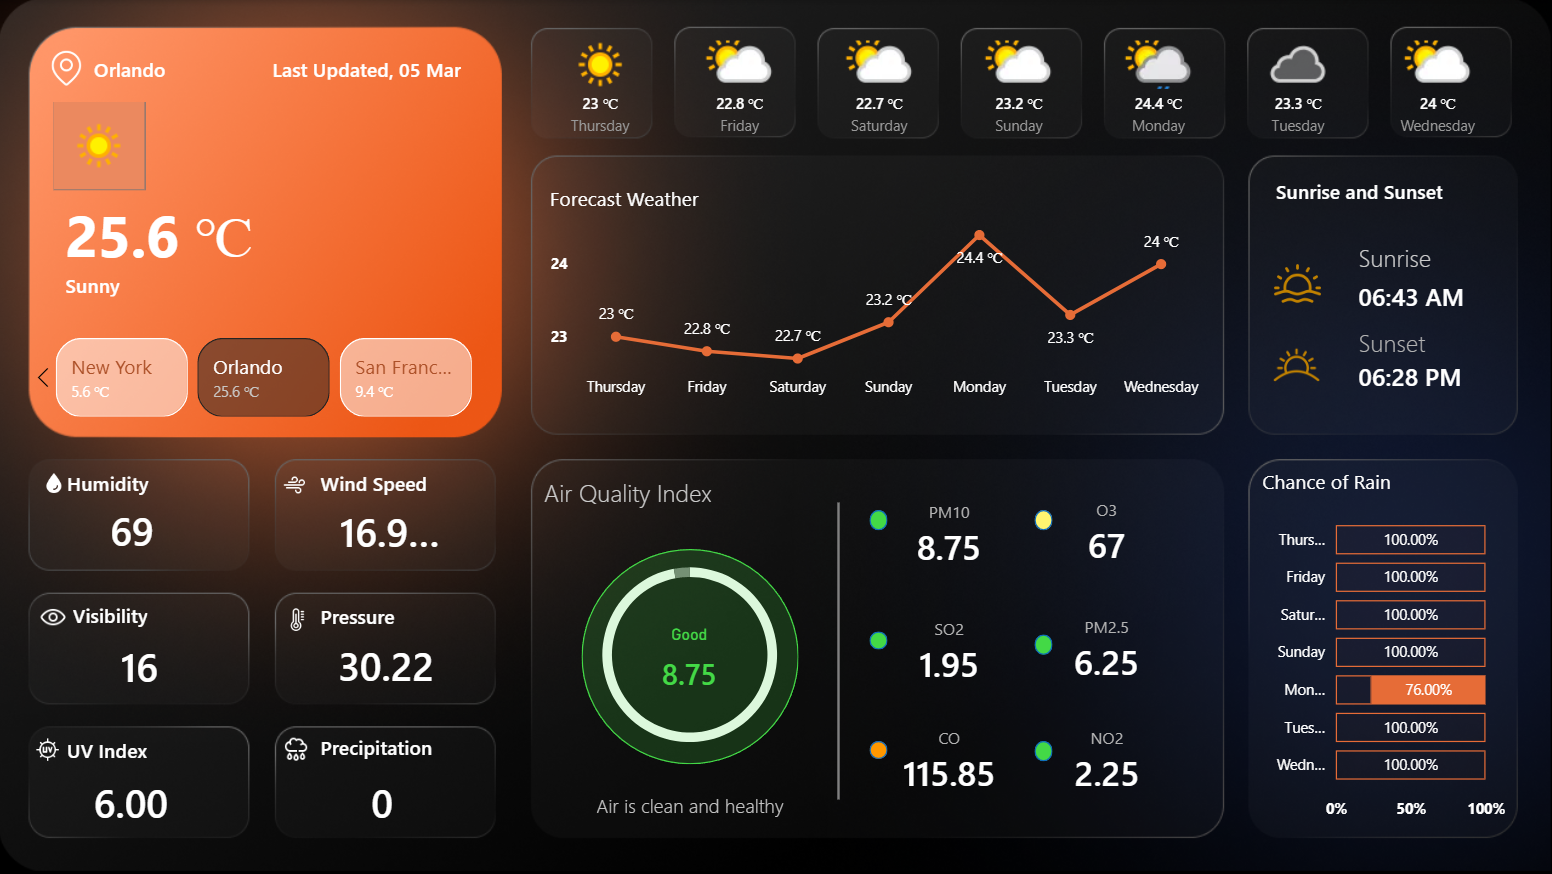

What the dashboard file says about the page in this screenshot:
{"tool":"powerbi","page":{"name":"Page 1","canvas":[1280,720],"ordinal":0},"visuals":[{"type":"donutChart","fields":{"Y":["_Measures.Left_value_PM10","Sum(Current.current.air_quality.pm10)"]},"box":[474.1,436.4,190,205.7],"z":0},{"type":"shape","box":[480.4,452.1,179,177.4],"z":1000},{"type":"advancedSlicerVisual","fields":{"Values":["Locations.location.name"]},"box":[22.7,272.6,393.7,75.7],"z":2000},{"type":"shape","box":[55.8,160.9,173.7,62.1],"z":3000},{"type":"shape","box":[55.8,223.1,210.3,20.7],"z":4000},{"type":"shape","box":[78.6,45.7,117.1,20],"z":5000},{"type":"image","box":[41.5,27.1,28.7,57.4],"z":6000},{"type":"shape","box":[225.7,45.7,174.3,20],"z":7000},{"type":"cardVisual","fields":{"Data":["Min(Current.current.condition.icon)"]},"box":[45.7,84.3,75.7,72.9],"z":8000},{"type":"image","box":[33.3,492.7,24,30.2],"z":9000},{"type":"shape","box":[61.5,492.7,64.6,27.1],"z":10000},{"type":"shape","box":[266,494,65,27],"z":11000},{"type":"shape","box":[266,602,95,27],"z":12000},{"type":"shape","box":[266,385,95,24],"z":13000},{"type":"shape","box":[57.3,384.4,72.9,27.1],"z":14000},{"type":"shape","box":[56.2,604.2,72.9,27.1],"z":15000},{"type":"image","box":[36.5,386.5,17.7,22.9],"z":16000},{"type":"image","box":[234.4,385.4,18.8,28.1],"z":17000},{"type":"image","box":[237.5,500,18.8,19.8],"z":18000},{"type":"image","box":[31,604,20,27],"z":19000},{"type":"image","box":[234,606,24,23],"z":20000},{"type":"advancedSlicerVisual","fields":{"Values":["Forcast_Day.Day_Name"]},"box":[437.1,27.1,810,102.9],"z":21000},{"type":"lineChart","title":"Forecast Weather","fields":{"Y":["Sum(Forcast_Day.forecast.forecastday.day.avgtemp_c)"],"Category":["Forcast_Day.Day_Name"]},"box":[450,151.7,550,185],"z":22000},{"type":"shape","box":[1052.4,140.8,165,31.8],"z":23000},{"type":"cardVisual","fields":{"Data":["Sum(Current.current.humidity)"]},"box":[75,414.8,105,41.6],"z":24000},{"type":"cardVisual","fields":{"Data":["_Measures.Wind_Speed"]},"box":[264.9,409.8,146.6,53.3],"z":25000},{"type":"cardVisual","fields":{"Data":["Sum(Current.current.vis_km)"]},"box":[83.7,522.8,77.4,50.5],"z":26000},{"type":"cardVisual","fields":{"Data":["Sum(Current.current.pressure_in)"]},"box":[263.2,523.1,118.3,50],"z":27000},{"type":"cardVisual","fields":{"Data":["Sum(Current.current.uv)"]},"box":[61.6,634.7,118.3,50],"z":28000},{"type":"cardVisual","fields":{"Data":["Sum(Current.current.precip_mm)"]},"box":[290.6,635,69.5,49],"z":29000},{"type":"shape","box":[1121.2,223.2,96.6,41.6],"z":30000},{"type":"shape","box":[1121.2,291.5,96.6,36.7],"z":31000},{"type":"shape","box":[1121.2,191.6,91.6,41.6],"z":32000},{"type":"shape","box":[1121.2,264.9,91.6,35],"z":33000},{"type":"image","box":[1037.3,275,65.6,50],"z":34000},{"type":"image","box":[1048.3,214,45.3,39.1],"z":35000},{"type":"hundredPercentStackedBarChart","title":"Chance of Rain","fields":{"Y":["Current.Left_value_Rain","Sum(Forcast_Day.forecast.forecastday.day.daily_chance_of_rain)"],"Category":["Forcast_Day.Day_Name"]},"box":[1037.3,385.9,209.3,298.4],"z":36000},{"type":"shape","box":[449.9,384.3,165.6,42.2],"z":37000},{"type":"cardVisual","fields":{"Data":["Sum(Current.current.air_quality.pm10)"]},"box":[730,406.6,106.8,67.5],"z":38000},{"type":"cardVisual","fields":{"Data":["Sum(Current.current.air_quality.o3)"]},"box":[868.7,405.9,89.3,66.6],"z":39000},{"type":"cardVisual","fields":{"Data":["Sum(Current.current.air_quality.so2)"]},"box":[738.8,503.3,89.3,66.6],"z":40000},{"type":"cardVisual","fields":{"Data":["Sum(Current.current.air_quality.co)"]},"box":[717.7,592.6,131.5,66.6],"z":41000},{"type":"cardVisual","fields":{"Data":["Sum(Current.current.air_quality.pm2_5)"]},"box":[868.7,501.7,89.3,66.6],"z":42000},{"type":"cardVisual","fields":{"Data":["Sum(Current.current.air_quality.no2)"]},"box":[860.6,592.6,107.2,66.6],"z":43000},{"type":"shape","box":[718,419.6,14.9,16.8],"z":44000},{"type":"shape","box":[718,609.9,14.9,14.9],"z":45000},{"type":"shape","box":[718,520.3,14.9,14.9],"z":46000},{"type":"shape","box":[854.2,419.6,14.9,16.8],"z":47000},{"type":"shape","box":[854.2,609.9,14.9,16.8],"z":48000},{"type":"shape","box":[854.2,522.2,14.9,16.8],"z":49000},{"type":"shape","box":[667.2,414.5,50.2,244.9],"z":50000},{"type":"cardVisual","fields":{"Data":["Sum(Current.current.air_quality.pm10)"]},"box":[524.4,514.9,91.1,65.9],"z":51000},{"type":"shape","box":[465.7,642.9,208.6,41.4],"z":52000}]}

Visuals, with their boxes in screenshot pixels (x1, y1, x2, y2), scaled from the page's 1280x720 canvas onto the 1552x874 screenshot:
donutChart - _Measures.Left_value_PM10 x Sum(Current.current.air_quality.pm10): 575:530:805:779
shape: 582:549:800:764
advancedSlicerVisual - Locations.location.name: 28:331:505:423
shape: 68:195:278:271
shape: 68:271:323:296
shape: 95:55:237:80
image: 50:33:85:103
shape: 274:55:485:80
cardVisual - Min(Current.current.condition.icon): 55:102:147:191
image: 40:598:69:635
shape: 75:598:153:631
shape: 323:600:401:632
shape: 323:731:438:764
shape: 323:467:438:496
shape: 69:467:158:500
shape: 68:733:157:766
image: 44:469:66:497
image: 284:468:307:502
image: 288:607:311:631
image: 38:733:62:766
image: 284:736:313:764
advancedSlicerVisual - Forcast_Day.Day_Name: 530:33:1512:158
"Forecast Weather" lineChart: 546:184:1212:409
shape: 1276:171:1476:210
cardVisual - Sum(Current.current.humidity): 91:504:218:554
cardVisual - _Measures.Wind_Speed: 321:497:499:562
cardVisual - Sum(Current.current.vis_km): 101:635:195:696
cardVisual - Sum(Current.current.pressure_in): 319:635:463:696
cardVisual - Sum(Current.current.uv): 75:770:218:831
cardVisual - Sum(Current.current.precip_mm): 352:771:437:830
shape: 1359:271:1477:321
shape: 1359:354:1477:398
shape: 1359:233:1471:283
shape: 1359:322:1471:364
image: 1258:334:1337:395
image: 1271:260:1326:307
"Chance of Rain" hundredPercentStackedBarChart: 1258:468:1512:831
shape: 546:466:746:518
cardVisual - Sum(Current.current.air_quality.pm10): 885:494:1015:576
cardVisual - Sum(Current.current.air_quality.o3): 1053:493:1162:574
cardVisual - Sum(Current.current.air_quality.so2): 896:611:1004:692
cardVisual - Sum(Current.current.air_quality.co): 870:719:1030:800
cardVisual - Sum(Current.current.air_quality.pm2_5): 1053:609:1162:690
cardVisual - Sum(Current.current.air_quality.no2): 1043:719:1173:800
shape: 871:509:889:530
shape: 871:740:889:758
shape: 871:632:889:650
shape: 1036:509:1054:530
shape: 1036:740:1054:761
shape: 1036:634:1054:654
shape: 809:503:870:800
cardVisual - Sum(Current.current.air_quality.pm10): 636:625:746:705
shape: 565:780:818:831
